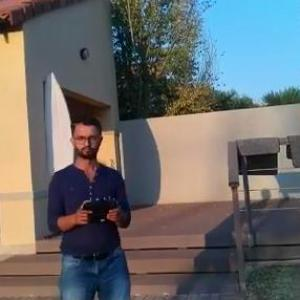follow: (43, 109, 140, 299)
